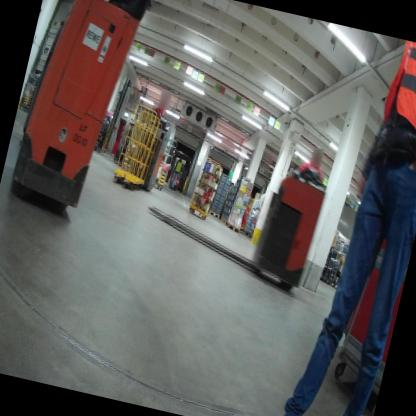pallet: (222, 220, 242, 235), (208, 210, 221, 220), (246, 230, 253, 238), (222, 217, 228, 224), (219, 216, 225, 223), (241, 227, 247, 234)
pallet_truck: (2, 0, 157, 222), (133, 142, 333, 300), (109, 111, 173, 197), (165, 168, 184, 192)
